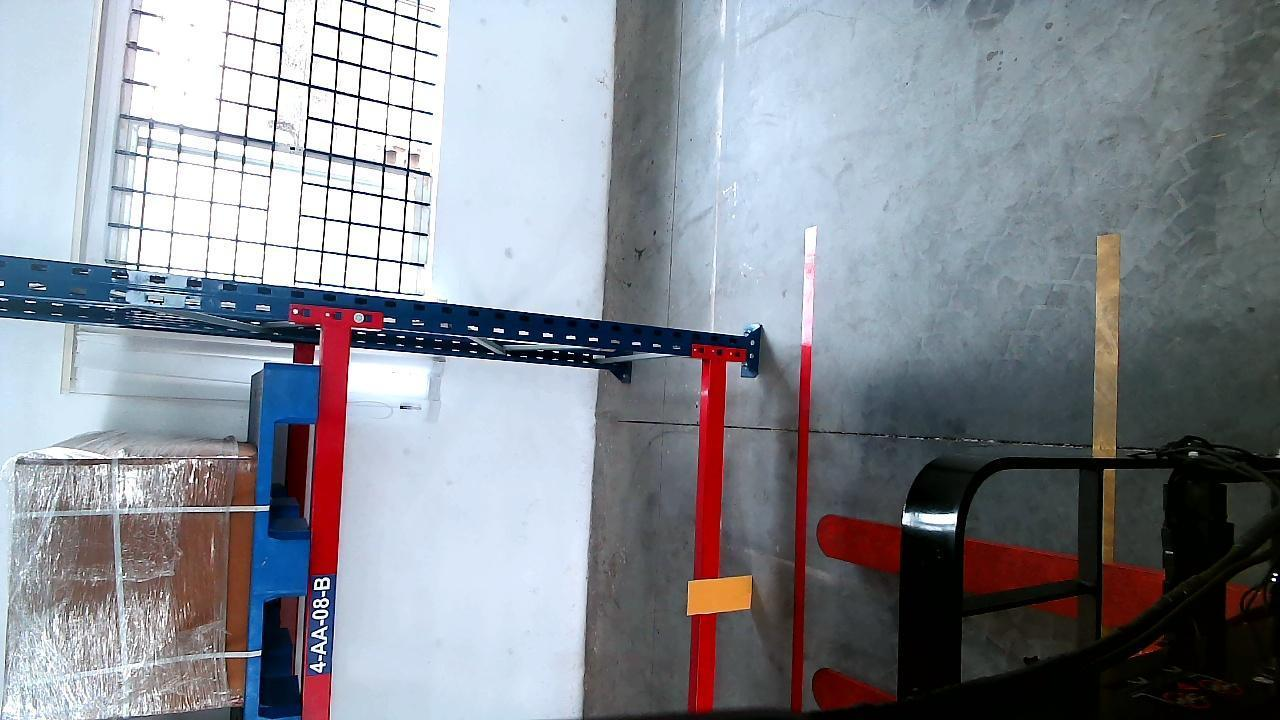h_rack: (304, 325, 353, 720), (690, 360, 727, 712)
orange_strip: (689, 575, 754, 613)
red_line: (787, 225, 818, 712)
small_pallet: (244, 363, 320, 720)
yellow_line: (1093, 219, 1120, 544)
